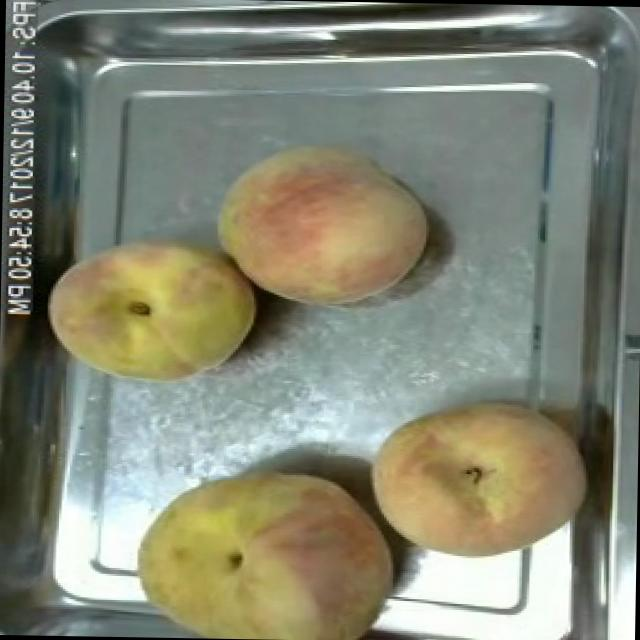Fruit: (121, 450, 407, 640), (360, 387, 602, 571), (208, 132, 435, 316), (38, 227, 267, 395)
